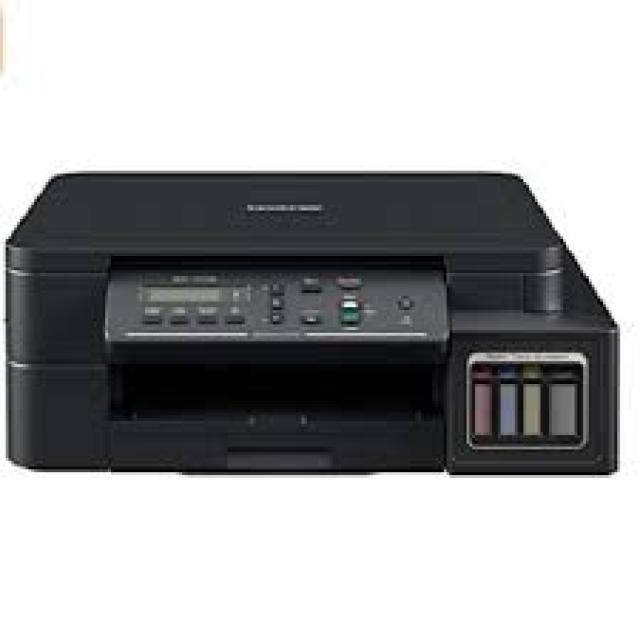printer: (0, 168, 620, 475)
